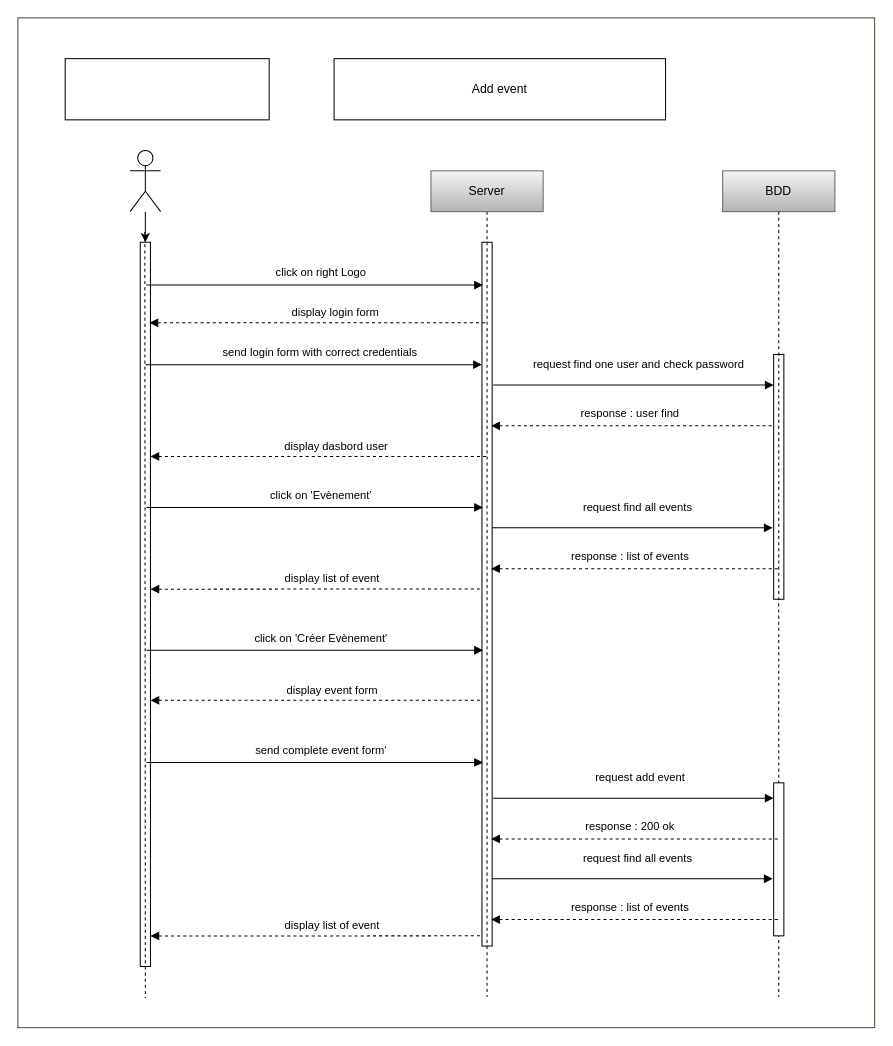
Image size: 893x1046. Some labels were removed from this diagram. The shapes that lost their labels are listed below. From the top down, each one's box as (x1, y1, x2, y2) in pixels, then its label:
(64, 58, 269, 120): sequence diagram
(129, 149, 161, 212): User
